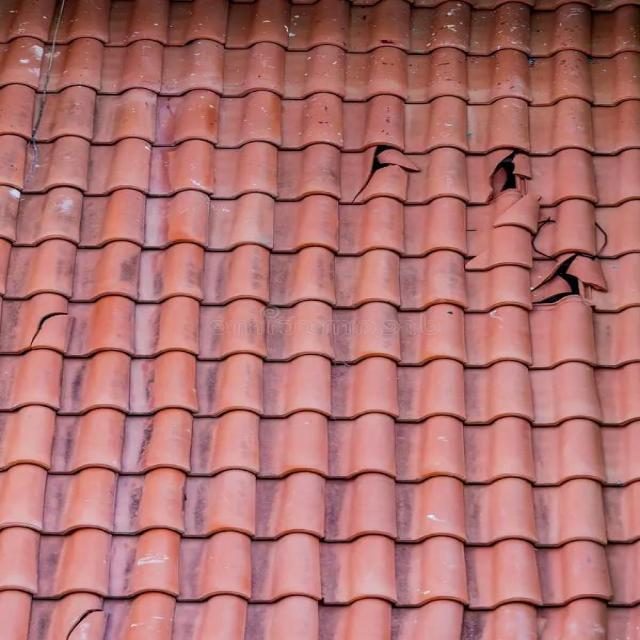trou: (355, 139, 409, 203), (530, 256, 591, 307), (478, 151, 528, 205)
